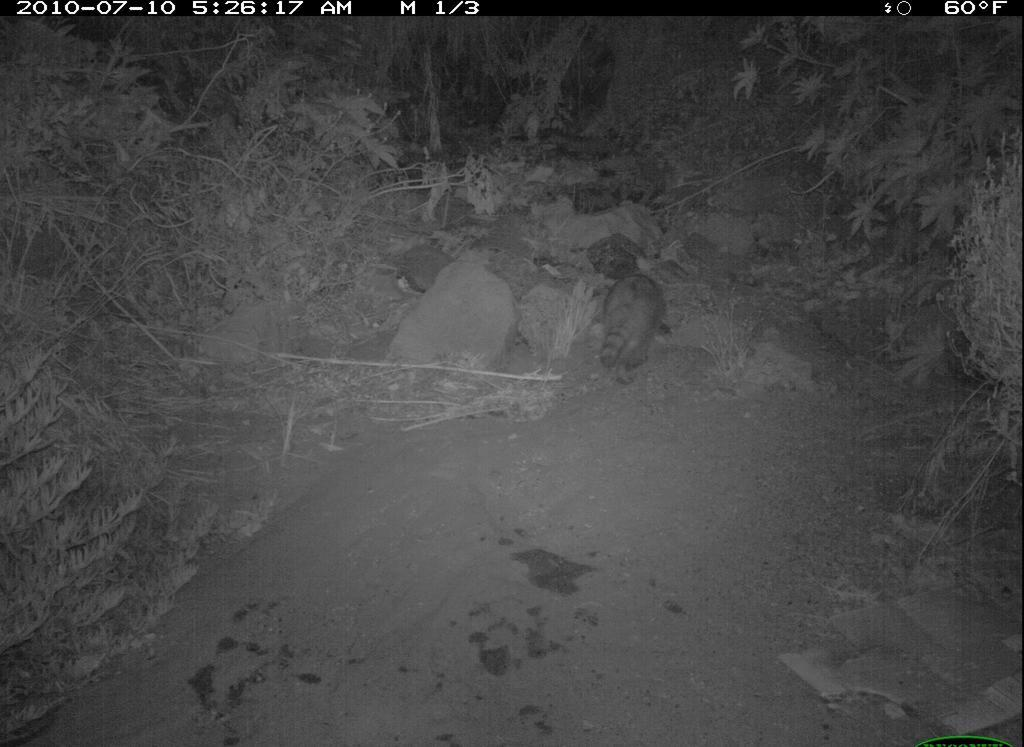raccoon: (592, 253, 680, 405)
